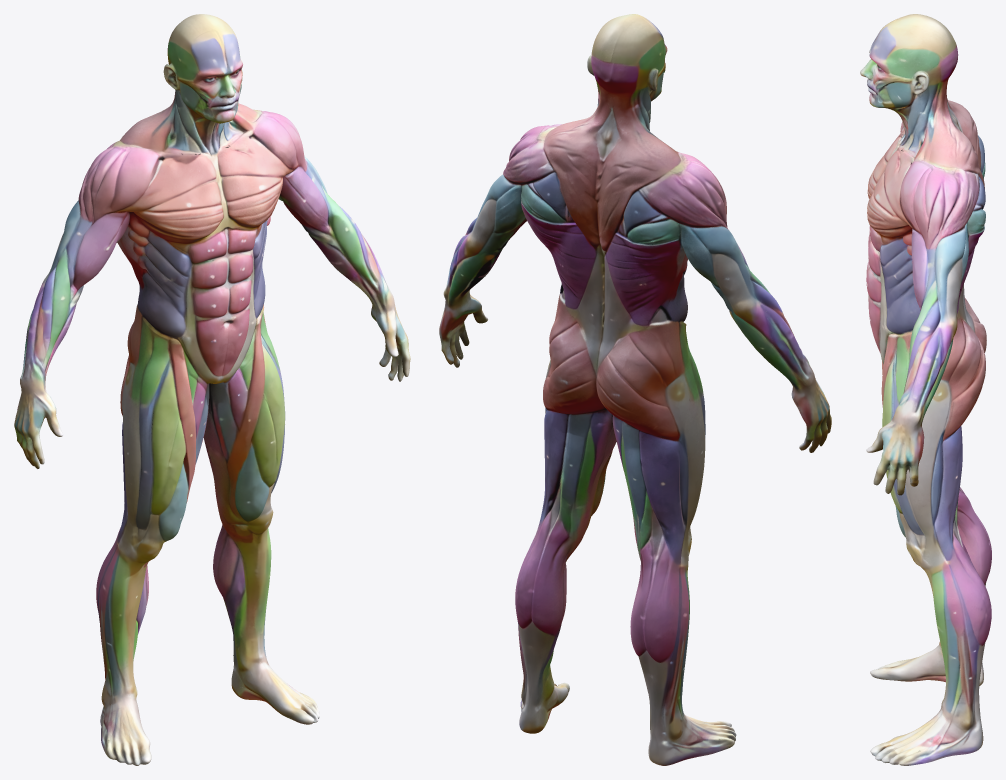
File: shaded版本.glb
3 views of the same model, side by side, from view 1: azimuth 30°, elevation 25°; view 2: azimuth 150°, elevation 25°; view 3: azimuth 270°, elevation 25° (orthographic).
Parts seen in each view (by area): view 1: model; view 2: model; view 3: model.
Part boxes in pixels (left/top/right/bottom): model: left=14, top=14, right=410, bottom=765; model: left=439, top=14, right=831, bottom=765; model: left=860, top=14, right=991, bottom=765.
Bounding box in the file's own units: 1.07 × 1.9 × 0.3234.
Materials: 1 (1 with a texture image).
